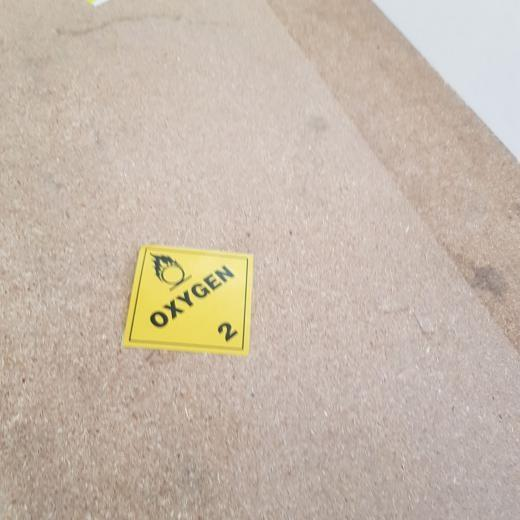oxidizer: (120, 241, 255, 356)
